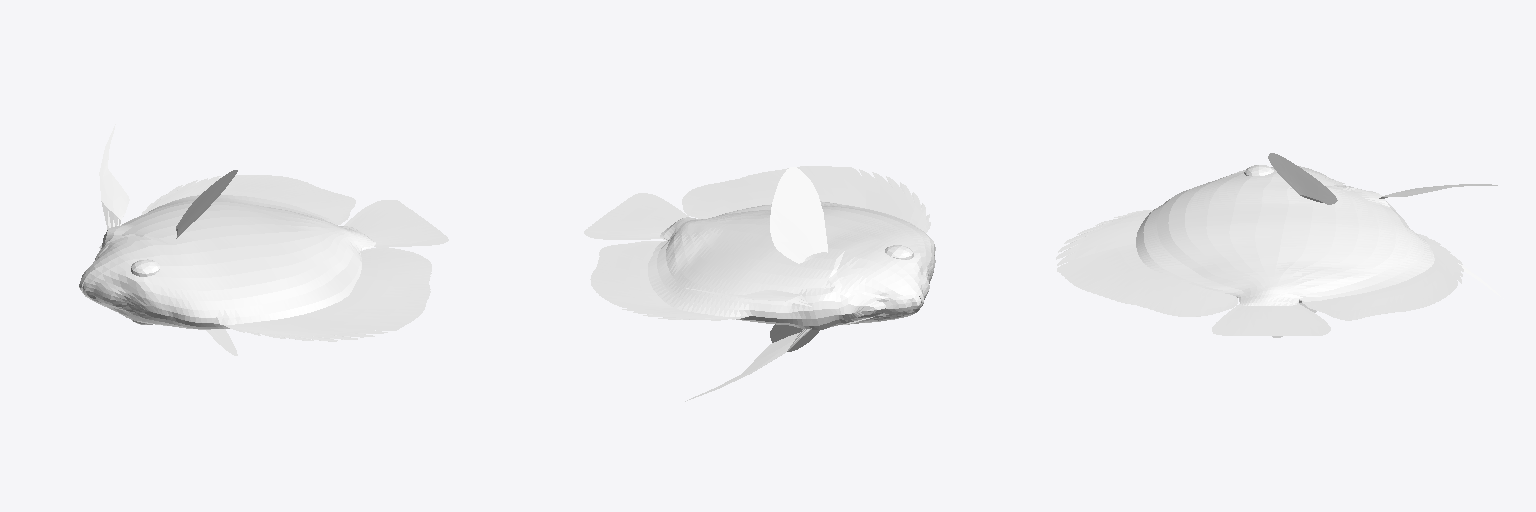
The model's file is TurquoiseDiscus.obj.
3 views of the same model, side by side, from view 1: azimuth 30°, elevation 25°; view 2: azimuth 150°, elevation 25°; view 3: azimuth 270°, elevation 25° (orthographic).
Bounding box in the file's own units: 0.4002 × 0.2152 × 0.4743.